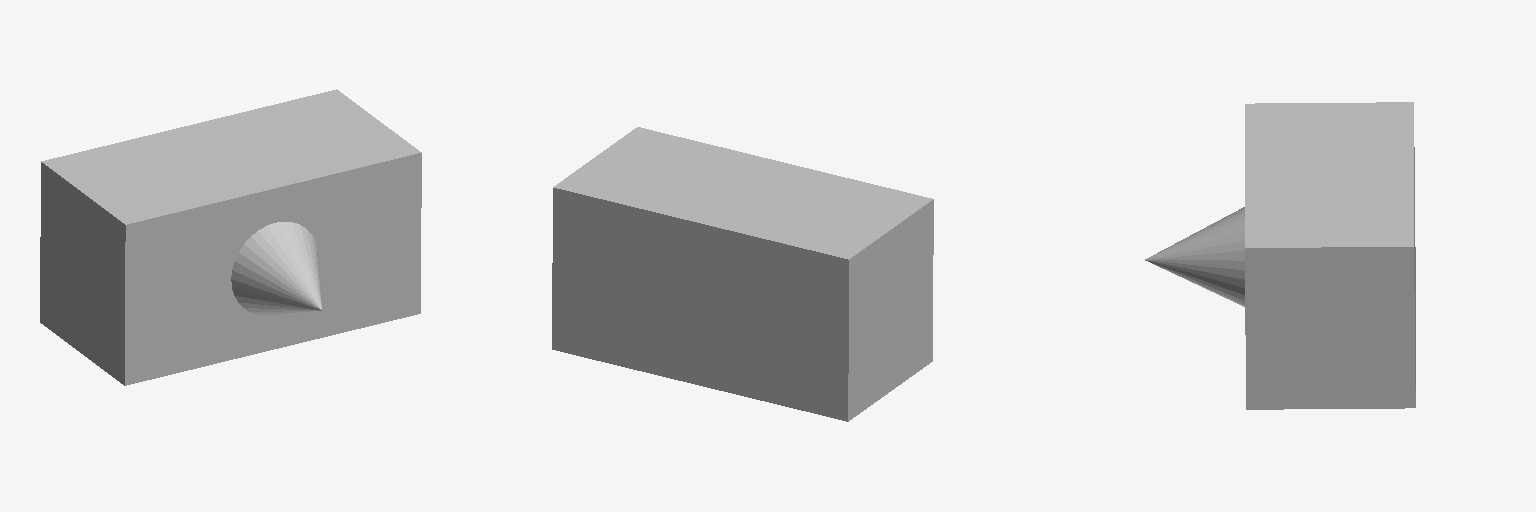
File: super_brick.obj
3 views of the same model, side by side, from view 1: azimuth 30°, elevation 25°; view 2: azimuth 150°, elevation 25°; view 3: azimuth 270°, elevation 25° (orthographic).
Size of the model in its own units: 2 by 1.05 by 1.59.